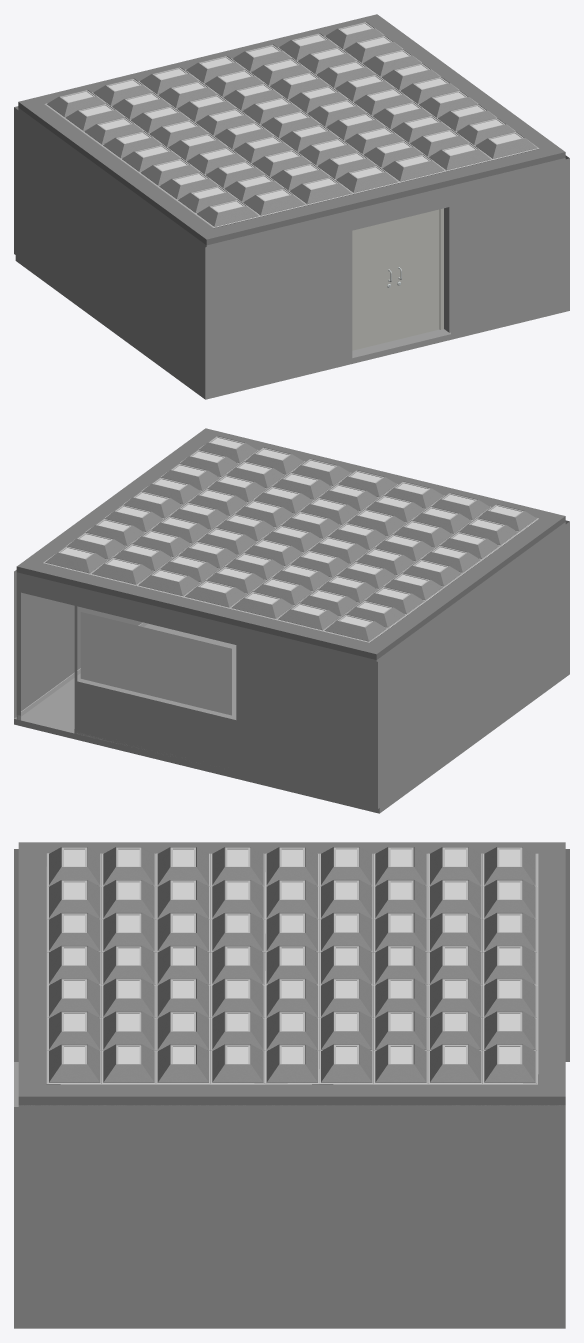
Rendered from SM_RainbowRoom.fbx.
3 renders of one model, top to bottom at view 1: azimuth 30°, elevation 25°; view 2: azimuth 150°, elevation 25°; view 3: azimuth 270°, elevation 25°, orthographic. The views are drawn at different scales.
Parts seen in each view (by area): view 1: Paredes, Techo.001, TechoJunta.001, Techo.lights.001, Techo.frames.001, Puerta.001, Puerta.002, Suelo.001, Techo,perfil.001, Marco-puerta.002, Marco-puerta.001; view 2: Paredes, Techo.001, TechoJunta.001, Techo.lights.001, Espejo-cristal.001, Techo.frames.001, Suelo.001, Techo,perfil.001, Rodapie.001; view 3: Paredes, Techo.001, TechoJunta.001, Techo.lights.001, Techo.frames.001, Techo,perfil.001, Suelo.001.
Boxes of the visible parts, <box> form: Paredes: <box>14,106,569,393</box>; Techo.001: <box>47,21,536,226</box>; TechoJunta.001: <box>18,14,565,245</box>; Techo.lights.001: <box>62,23,521,211</box>; Techo.frames.001: <box>60,22,523,212</box>; Puerta.001: <box>394,209,439,340</box>; Puerta.002: <box>352,220,393,350</box>; Suelo.001: <box>15,255,569,399</box>; Techo,perfil.001: <box>44,25,539,228</box>; Marco-puerta.002: <box>444,207,449,332</box>; Marco-puerta.001: <box>439,208,443,329</box>; Paredes: <box>14,520,569,808</box>; Techo.001: <box>45,436,536,641</box>; TechoJunta.001: <box>16,428,565,659</box>; Techo.lights.001: <box>61,438,520,626</box>; Espejo-cristal.001: <box>80,612,231,715</box>; Techo.frames.001: <box>58,436,523,627</box>; Suelo.001: <box>14,623,569,813</box>; Techo,perfil.001: <box>43,441,538,642</box>; Rodapie.001: <box>16,622,196,762</box>; Paredes: <box>14,849,569,1320</box>; Techo.001: <box>49,847,535,1082</box>; TechoJunta.001: <box>18,842,565,1105</box>; Techo.lights.001: <box>64,849,520,1063</box>; Techo.frames.001: <box>62,847,522,1064</box>; Techo,perfil.001: <box>46,853,538,1084</box>; Suelo.001: <box>14,1062,565,1328</box>.
Size of the model in its own units: 650 by 286 by 591.
